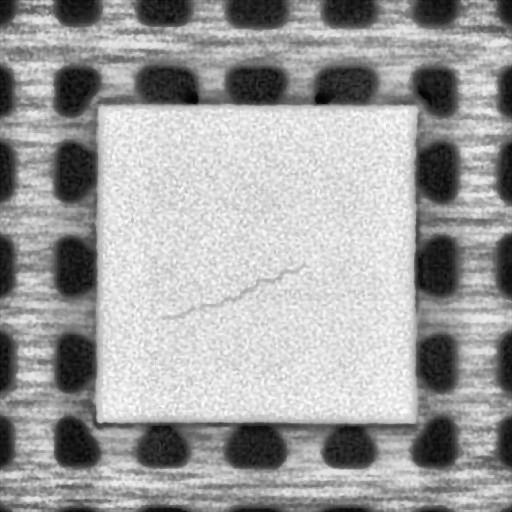DIE_CRACK: (158, 258, 305, 330)
